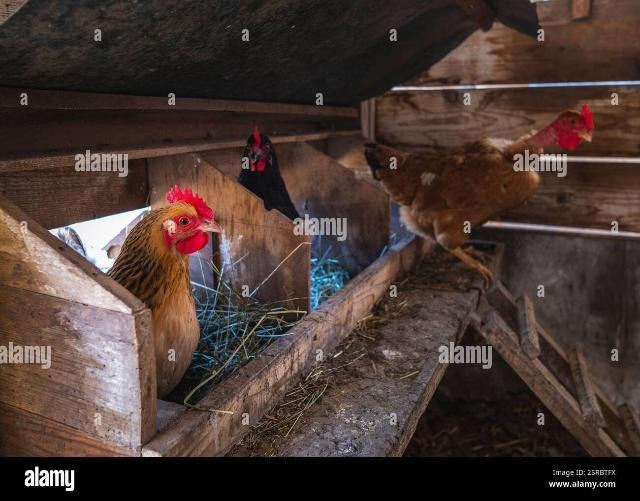Chicken: (362, 103, 592, 288), (103, 180, 224, 399), (236, 125, 304, 228)
